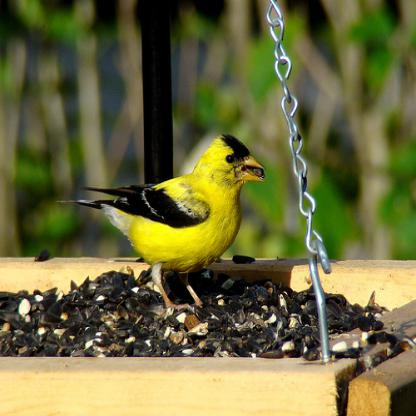bird: (50, 128, 271, 322)
